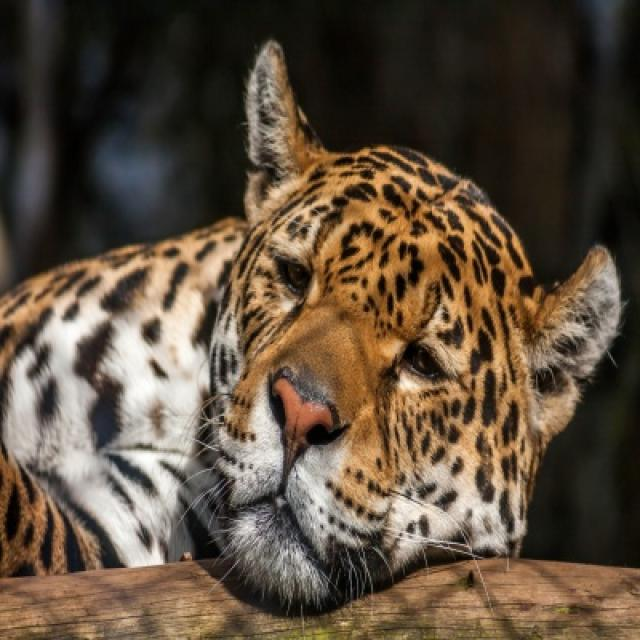Jaguar: (0, 40, 634, 619)
